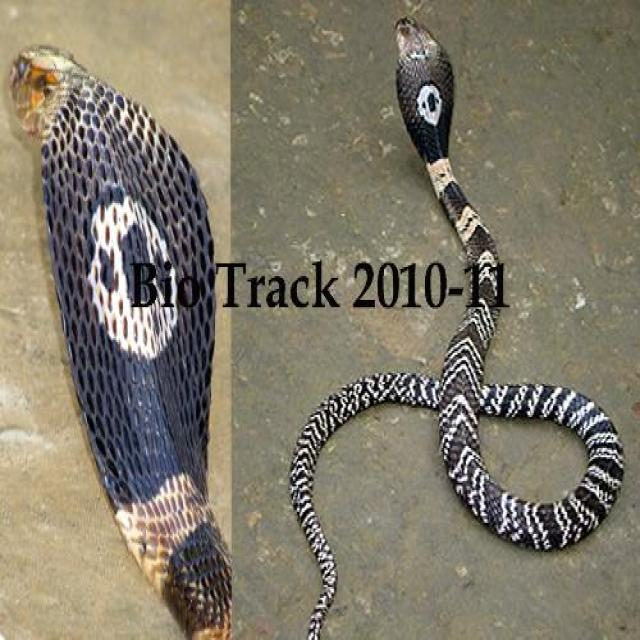Snake: (286, 13, 624, 636)
